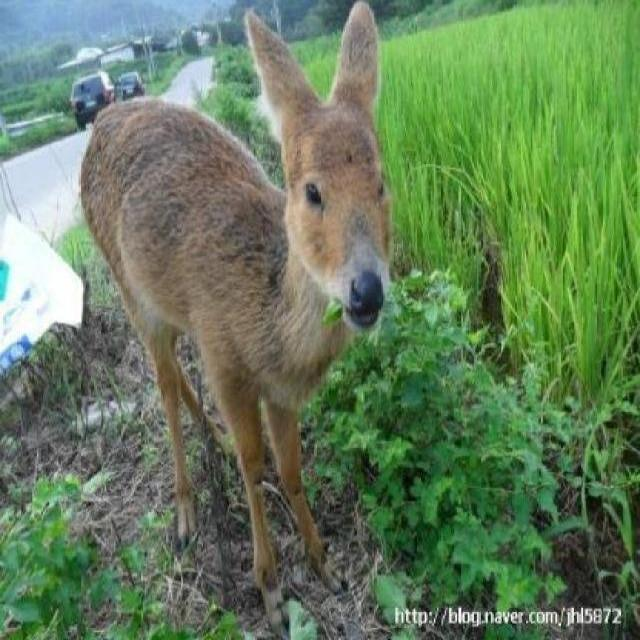deer: (77, 0, 393, 637)
